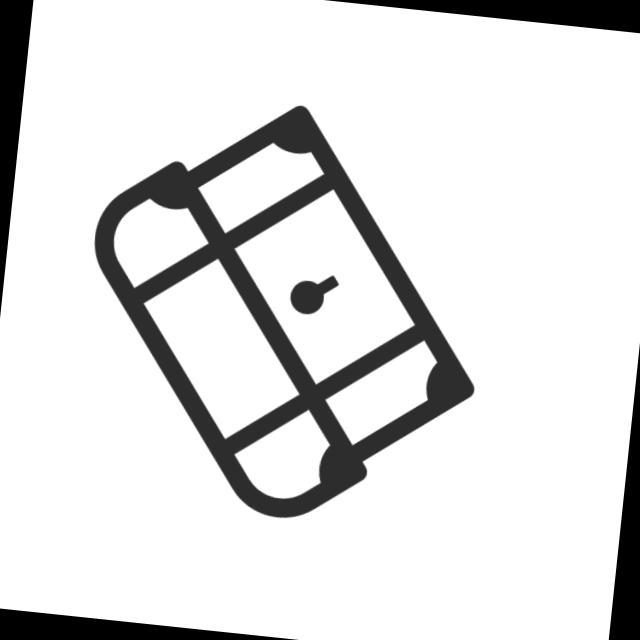treasure_box: (60, 74, 511, 543)
